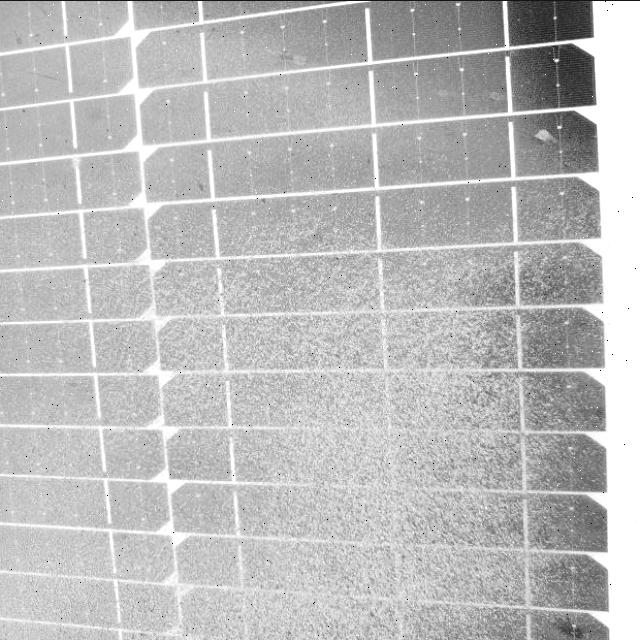Surface Contaminant: (5, 4, 606, 640)
